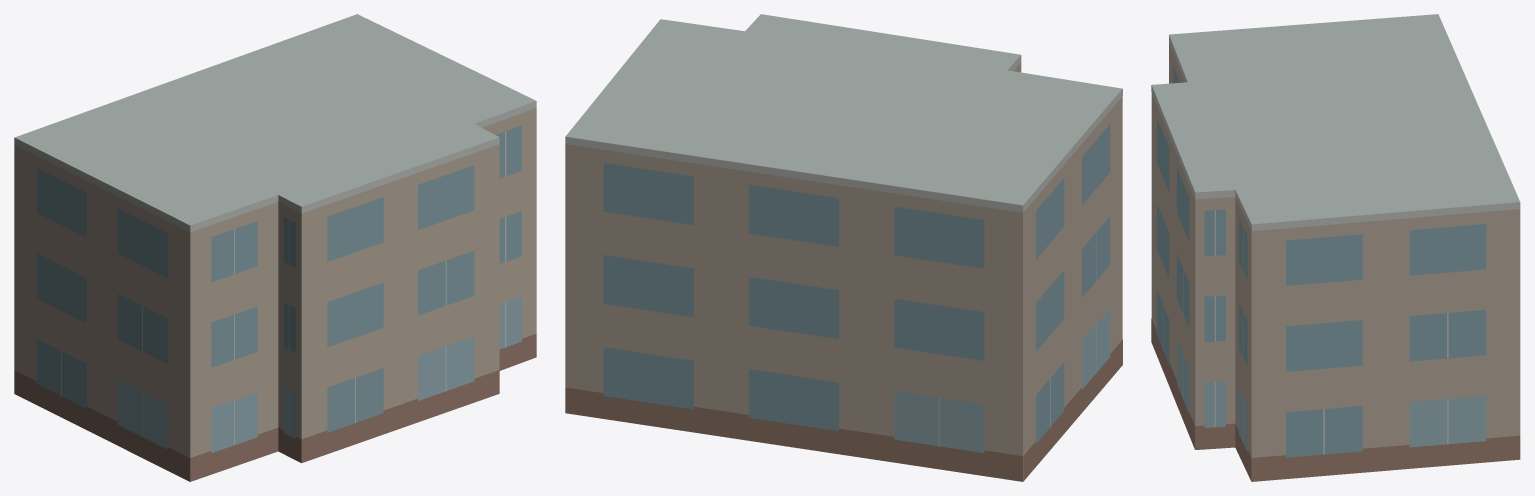
The model's file is survey-upis-32469050.glb.
The picture shows the model from 3 angles, left to right: view 1: azimuth 30°, elevation 25°; view 2: azimuth 150°, elevation 25°; view 3: azimuth 270°, elevation 25°; orthographic projection. The views are drawn at different scales.
Visible parts, largest first — view 1: survey-upis-32469050.tmp; view 2: survey-upis-32469050.tmp; view 3: survey-upis-32469050.tmp.
Boxes of the visible parts, bbox=[...] form: survey-upis-32469050.tmp: bbox=[14, 14, 536, 481]; survey-upis-32469050.tmp: bbox=[565, 14, 1122, 481]; survey-upis-32469050.tmp: bbox=[1151, 14, 1520, 481].
Bounding box in the file's own units: 16.04 × 9.15 × 11.89.
